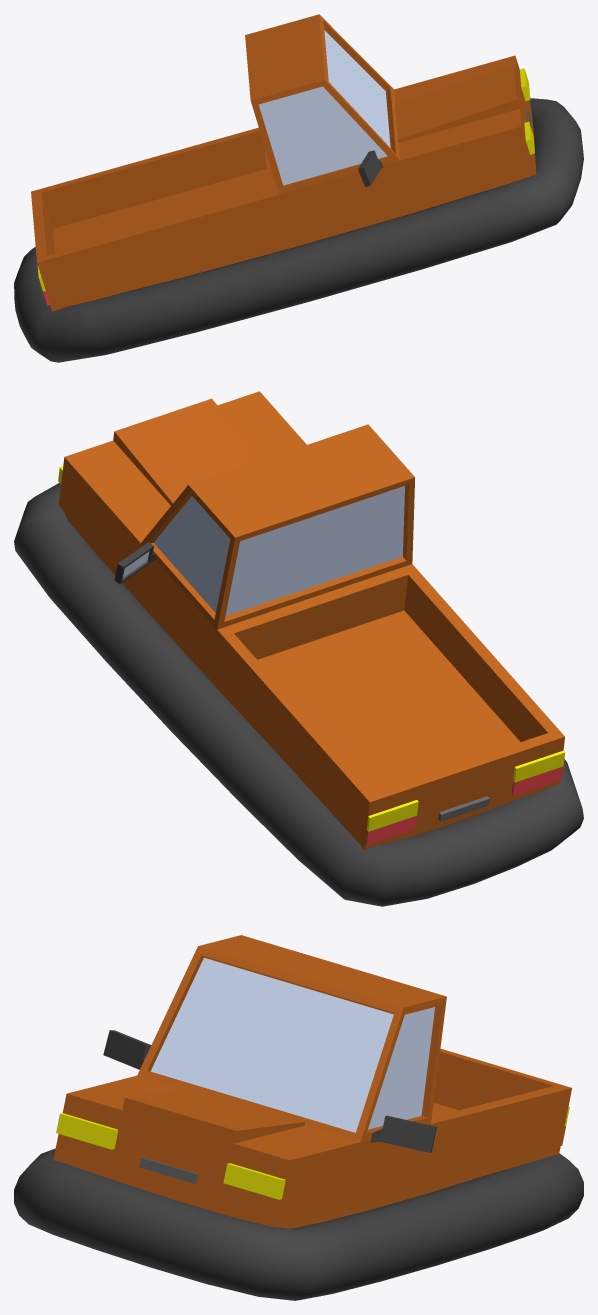
The model's file is car3.fbx.
3 views of the same model, one above another, from view 1: azimuth 30°, elevation 25°; view 2: azimuth 150°, elevation 25°; view 3: azimuth 270°, elevation 25° (orthographic). The views are drawn at different scales.
Parts seen in each view (by area): view 1: car.002, airCussion.002, sideMirrorRight.002; view 2: car.002, airCussion.002, sideMirrorLeft.002; view 3: car.002, airCussion.002, sideMirrorLeft.002, sideMirrorRight.002.
Boxes of the visible parts, bbox=[...] form: car.002: bbox=[31, 14, 536, 311]; airCussion.002: bbox=[14, 98, 583, 362]; sideMirrorRight.002: bbox=[358, 150, 383, 186]; car.002: bbox=[58, 391, 565, 850]; airCussion.002: bbox=[14, 483, 583, 906]; sideMirrorLeft.002: bbox=[114, 542, 155, 583]; car.002: bbox=[53, 935, 571, 1228]; airCussion.002: bbox=[14, 1148, 583, 1300]; sideMirrorLeft.002: bbox=[370, 1115, 436, 1152]; sideMirrorRight.002: bbox=[103, 1030, 151, 1069].
Bounding box in the file's own units: 95.71 × 50.68 × 72.97.
